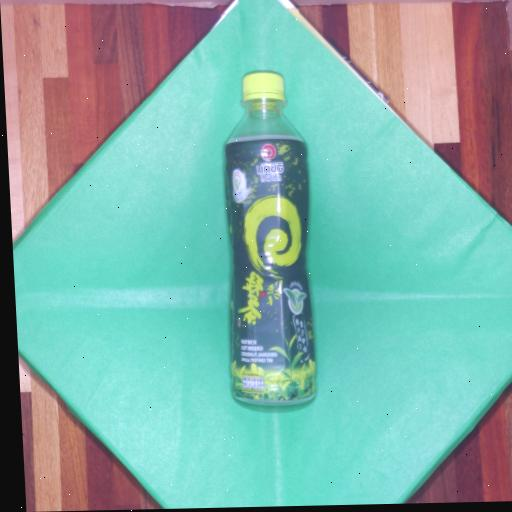bottle: (224, 73, 314, 403)
